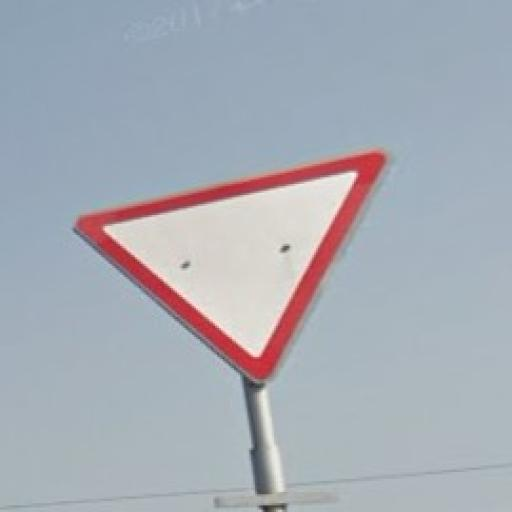traffic_sign: (74, 152, 390, 382)
